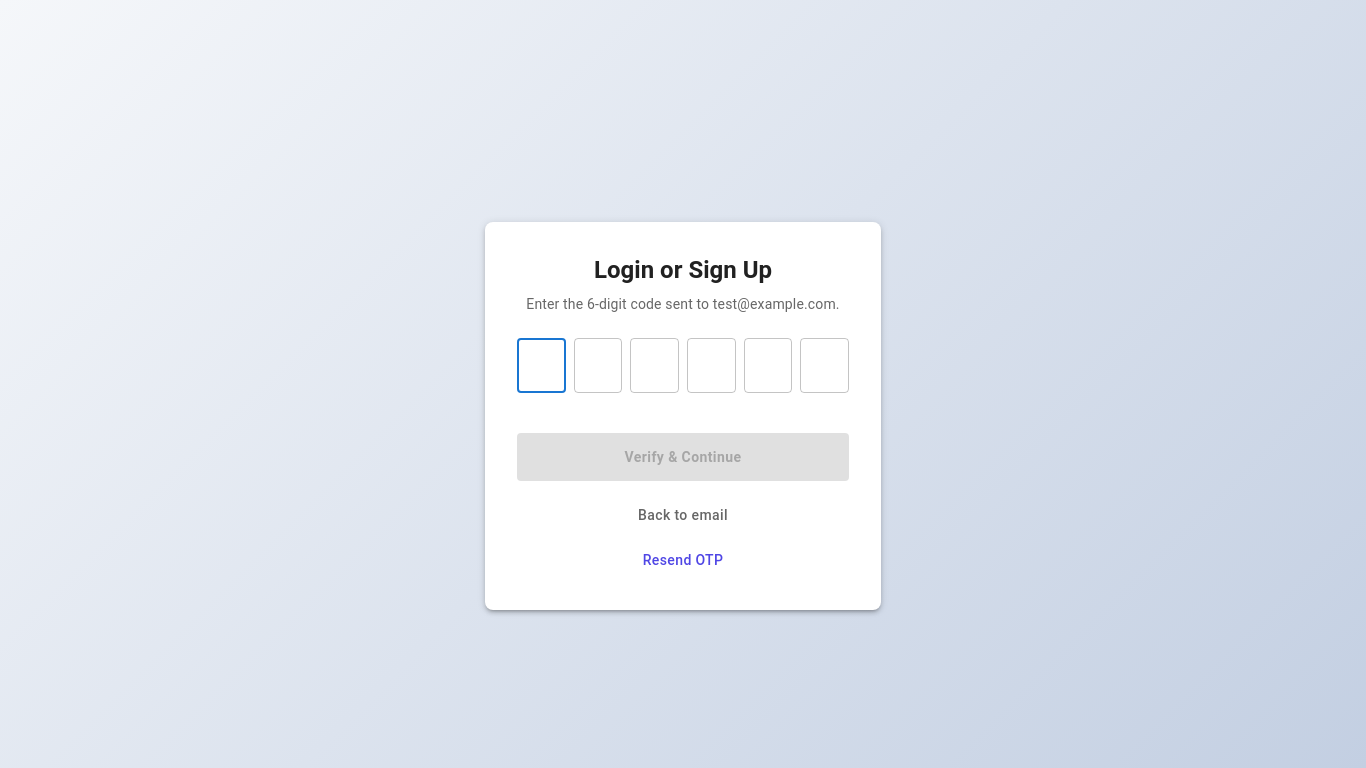
Test: OtpPage › Resend OTP › should display error message when resend fails
Click the button "Resend OTP": (683, 560) [517,542,849,578]
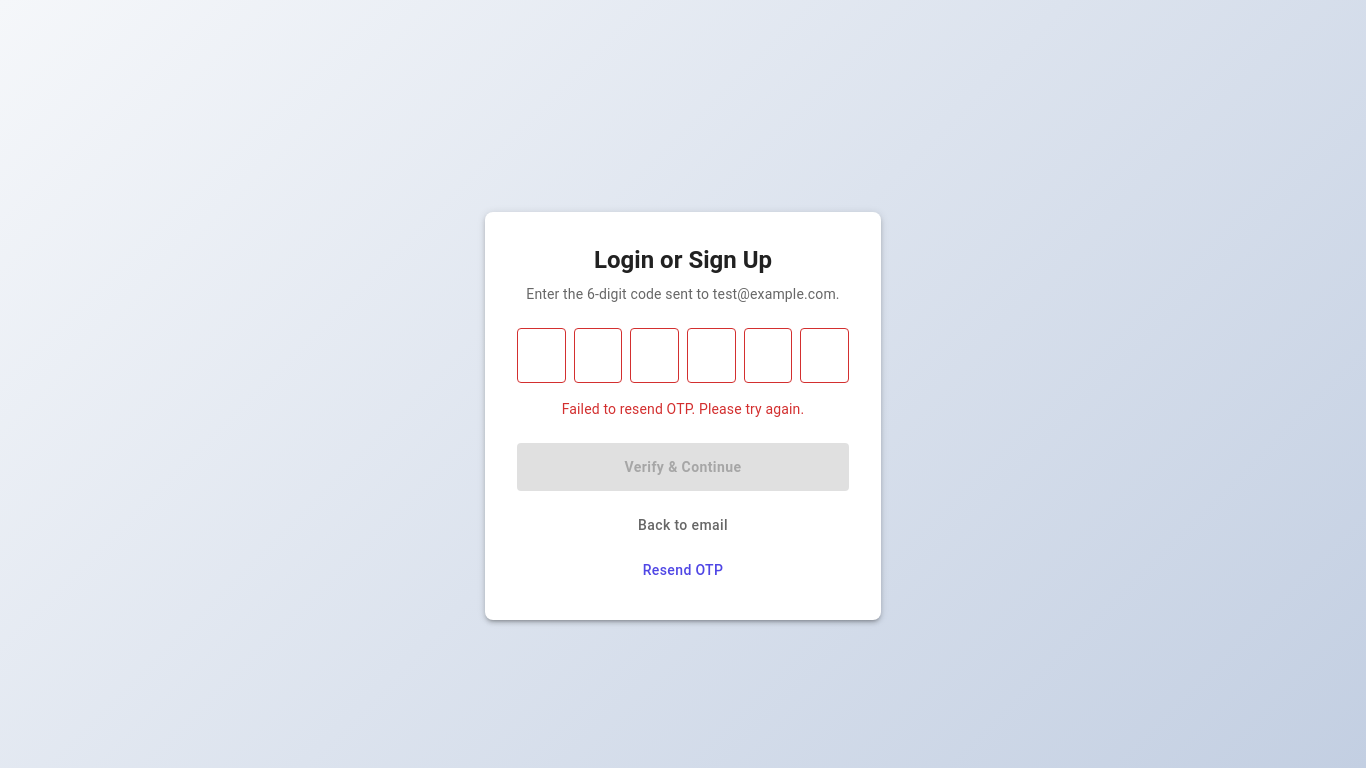
Now the text "Failed to resend OTP. Please try again." is shown, box [562,401,804,417]
